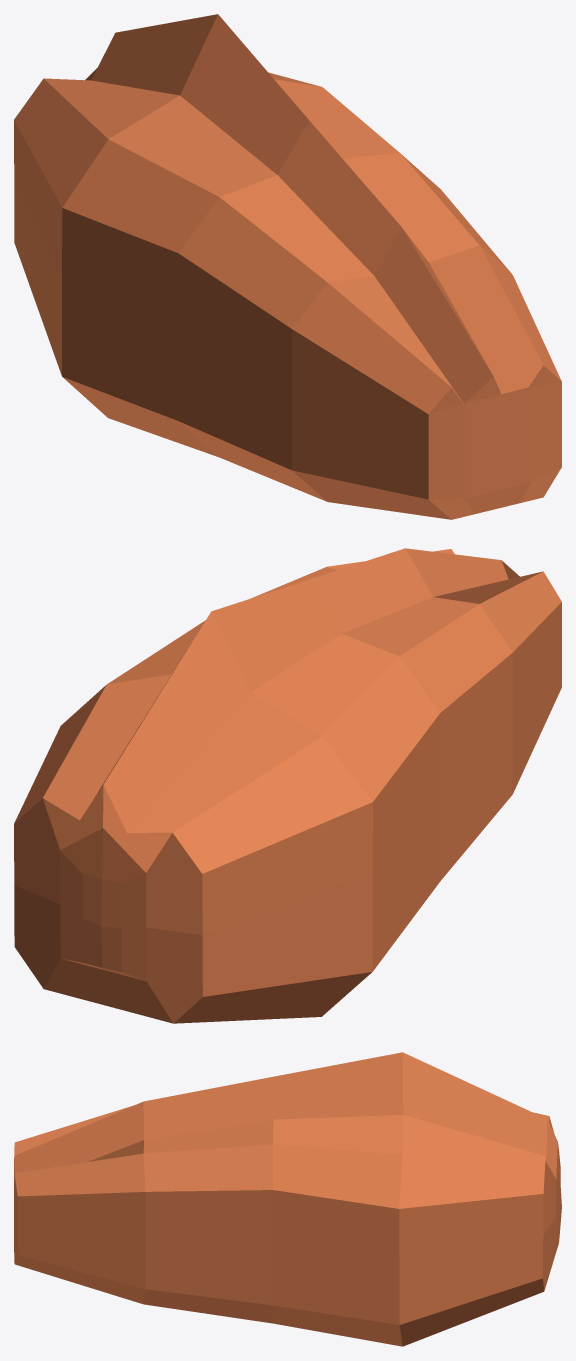
Rendered from koifishBody.glb.
3 views of the same model, one above another, from view 1: azimuth 30°, elevation 25°; view 2: azimuth 150°, elevation 25°; view 3: azimuth 270°, elevation 25° (orthographic). The views are drawn at different scales.
Visible parts, largest first — view 1: Body; view 2: Body; view 3: Body.
Boxes of the visible parts, box(x1,y1,x2,y2) form: Body: box(14, 14, 561, 519); Body: box(14, 548, 561, 1023); Body: box(14, 1052, 561, 1346).
Size of the model in its own units: 5.68 by 6.58 by 12.6.
